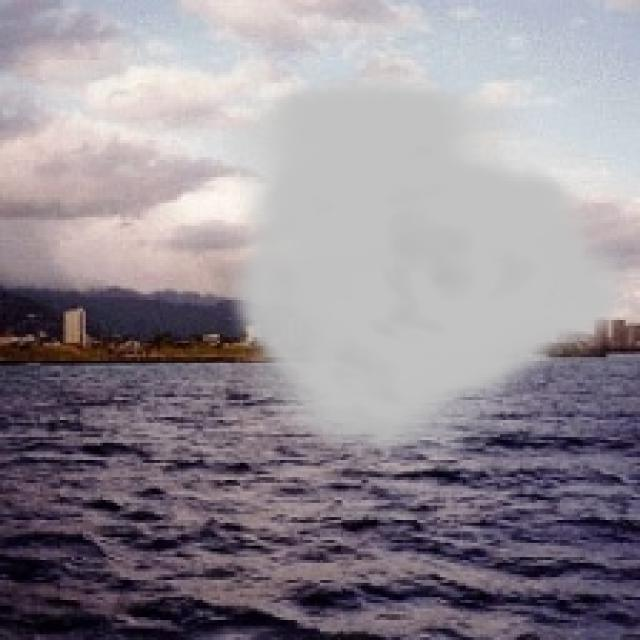smoke: (223, 69, 637, 468)
